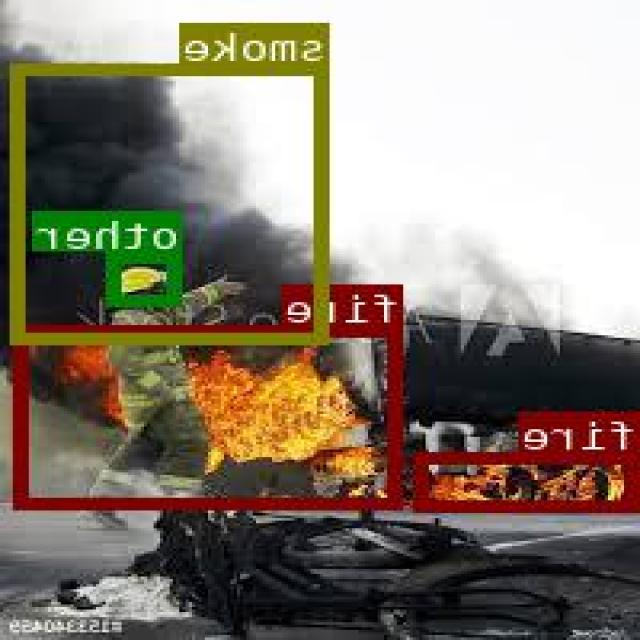fire: (18, 324, 404, 506), (419, 450, 640, 510)
other: (109, 251, 185, 302)
smoke: (15, 62, 330, 343)
